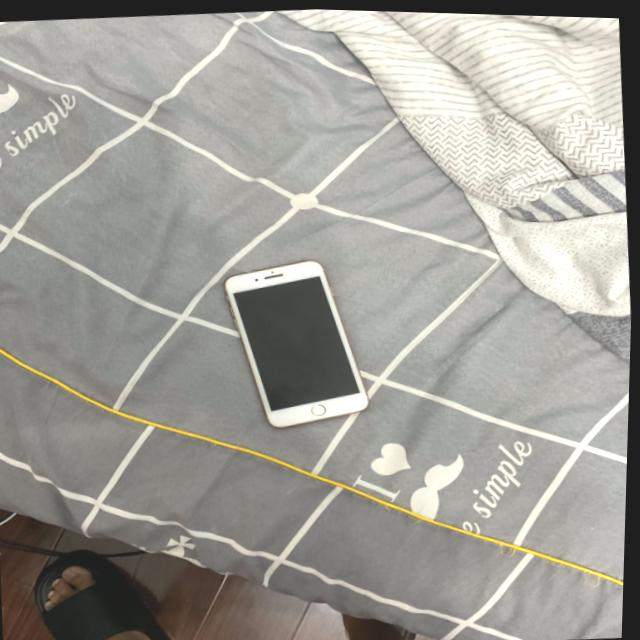Smartphone: (209, 246, 400, 437)
